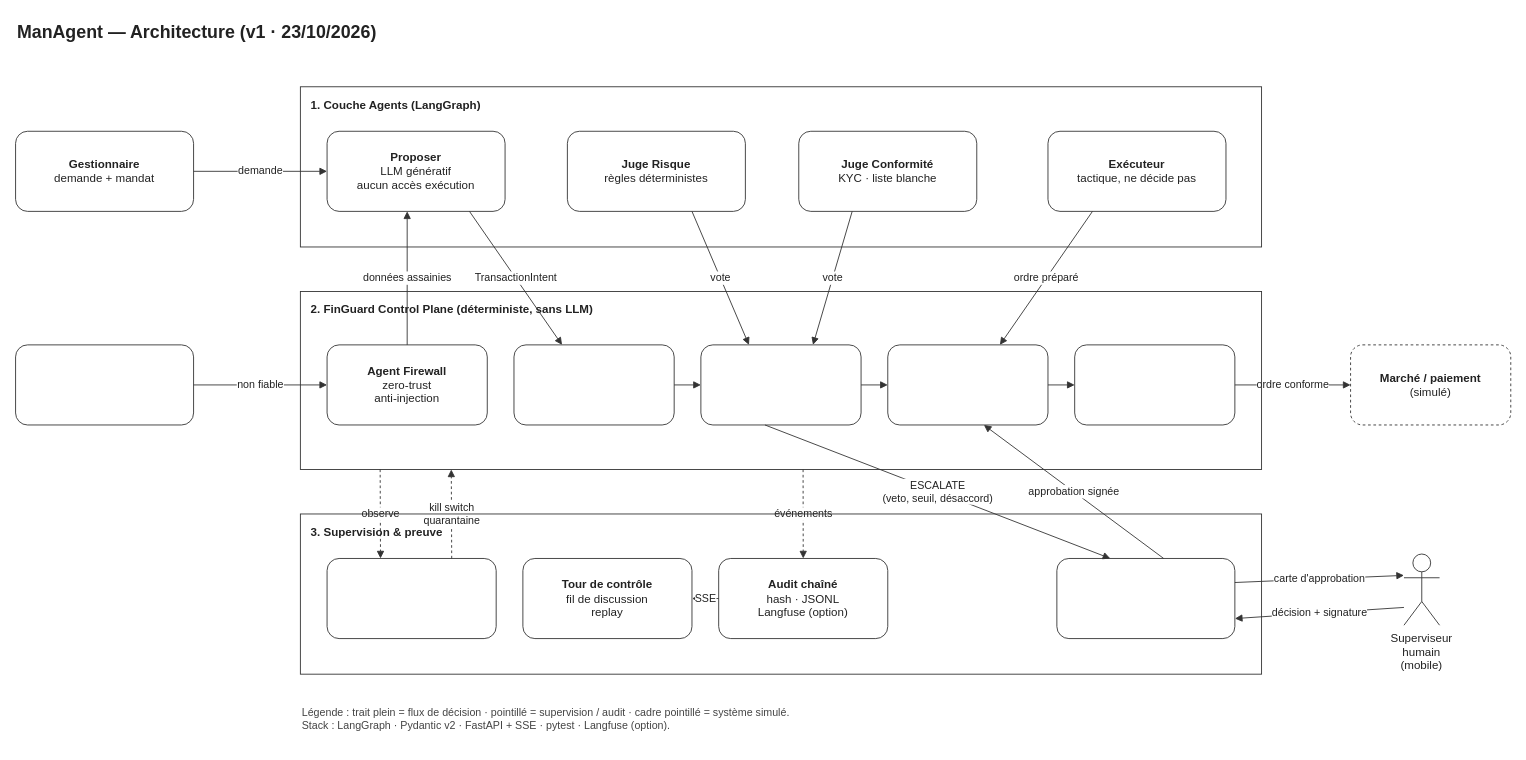
Image size: 1526x760. Some labels were removed from this diagram. Each missing label, with the centre of its shape:
"HITL asynchrone interrupt() LangGraph Approuver · Rejeter · Rapport" belongs at point (1145, 598).
"Integrity Engine autorisation liée au hash de l'intention" belongs at point (967, 384).
"Policy Engine ALLOW · ESCALATE · BLOCK" belongs at point (593, 384).
"Quorum pondéré Risque + Conformité poids = Trust Score" belongs at point (780, 384).
"Risk Governor budget · fréquence circuit breaker" belongs at point (1154, 384).
"Sources externes news, documents" belongs at point (104, 384).
"Superviseur méta-agent · dérives Trust Score" belongs at point (411, 598).
